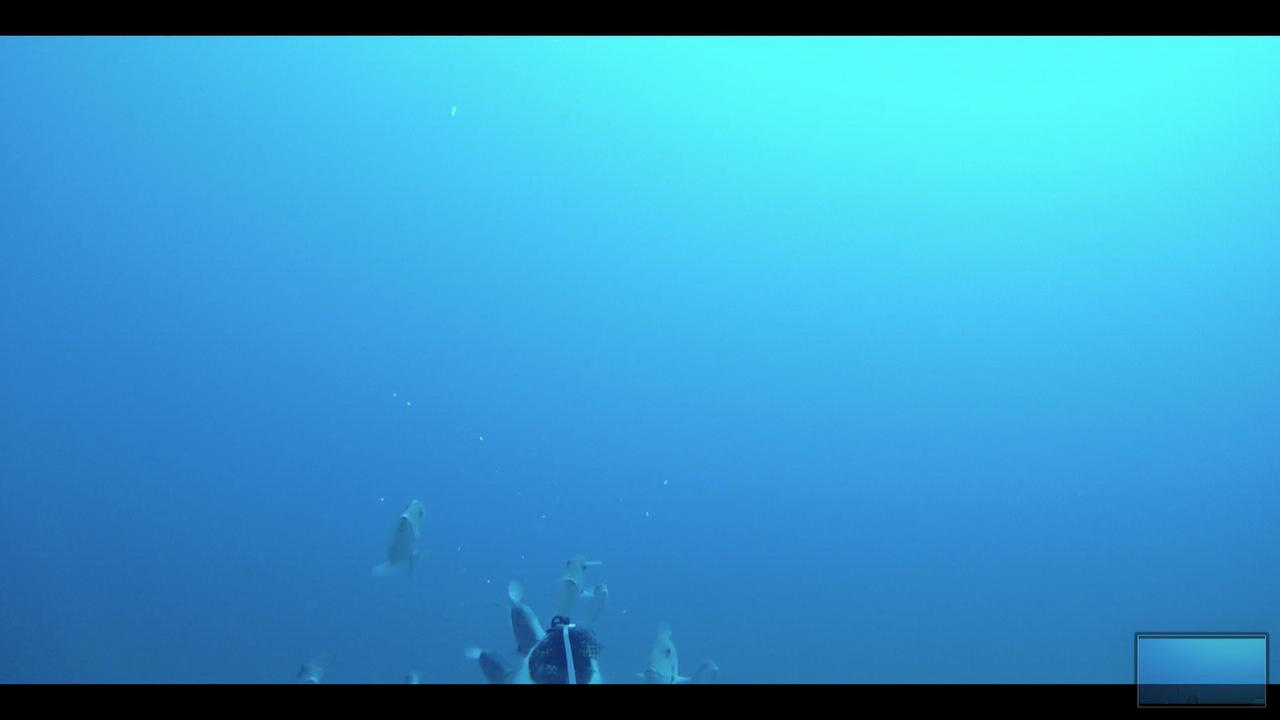balistes: (373, 493, 435, 583), (496, 565, 553, 661), (551, 548, 601, 626), (639, 613, 688, 684), (464, 641, 522, 681)
